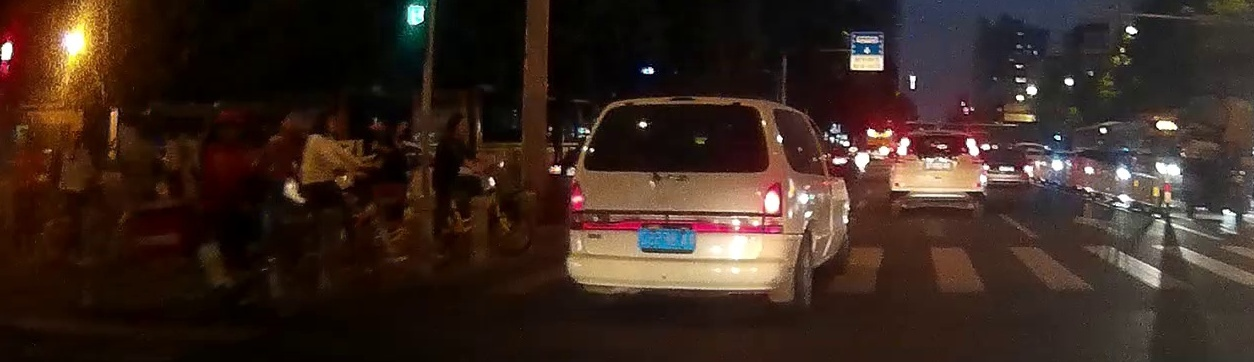L_light: (569, 181, 585, 229), (894, 136, 909, 163)
R_light: (762, 182, 783, 233), (965, 138, 981, 162)
T_light: (670, 104, 695, 110), (931, 134, 947, 139)
night-no: (890, 130, 986, 217)
night-right: (566, 96, 784, 308)
